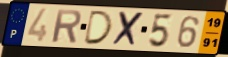4: (25, 7, 49, 44)
5: (147, 12, 175, 49)
6: (176, 15, 201, 50)
D: (82, 9, 114, 46)
R: (51, 8, 83, 44)
X: (111, 10, 146, 48)
